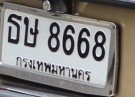txt19: (6, 13, 23, 45)
txt34: (22, 16, 40, 48)
